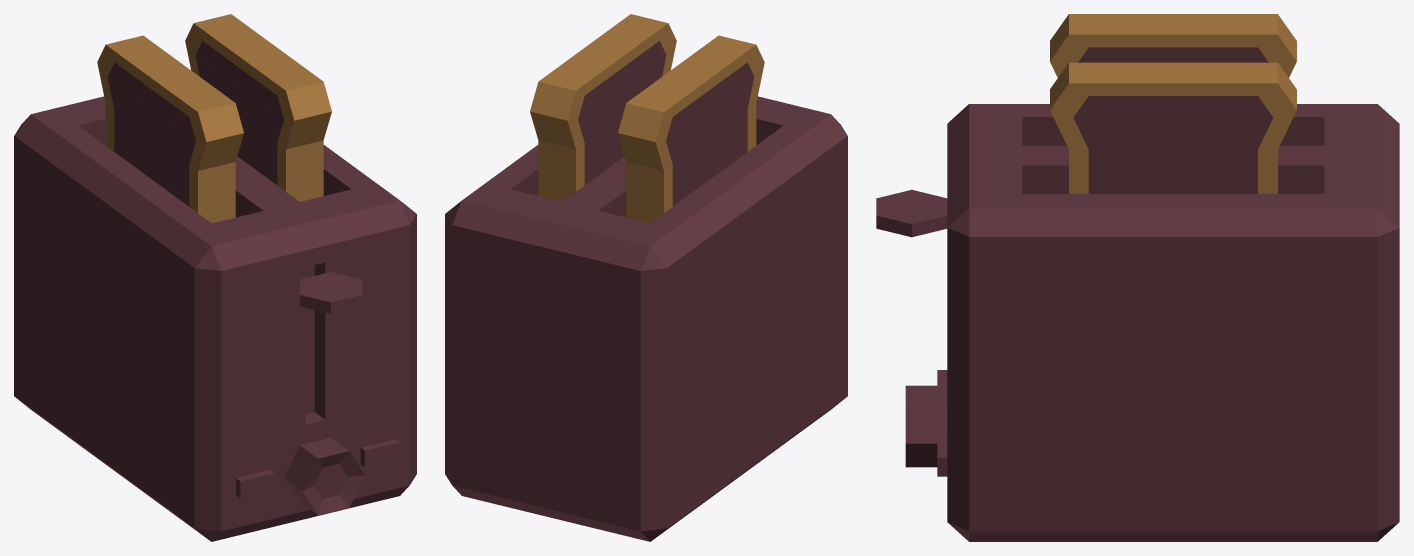
File: toaster-toast.fbx
3 views of the same model, side by side, from view 1: azimuth 30°, elevation 25°; view 2: azimuth 150°, elevation 25°; view 3: azimuth 270°, elevation 25° (orthographic). The views are drawn at different scales.
Parts seen in each view (by area): view 1: toaster-toast; view 2: toaster-toast; view 3: toaster-toast.
Boxes of the visible parts, x1,y1,x2,y2 form: toaster-toast: (14, 14, 416, 541); toaster-toast: (445, 14, 847, 541); toaster-toast: (876, 14, 1399, 541).
Size of the model in its own units: 0.1298 by 0.2177 by 0.2341.
